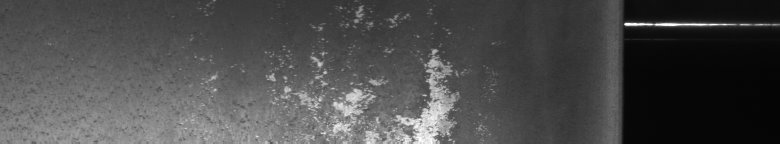kb: (195, 4, 495, 136)
